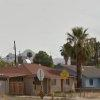Palm tree: (59, 23, 96, 92)
